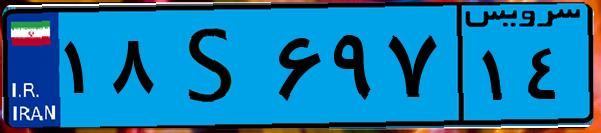1: (57, 26, 110, 100), (475, 38, 525, 113)
4: (525, 38, 570, 115)
6: (270, 28, 330, 110)
7: (385, 28, 445, 110)
8: (110, 28, 158, 98)
9: (330, 28, 385, 110)
S: (158, 12, 270, 120)
